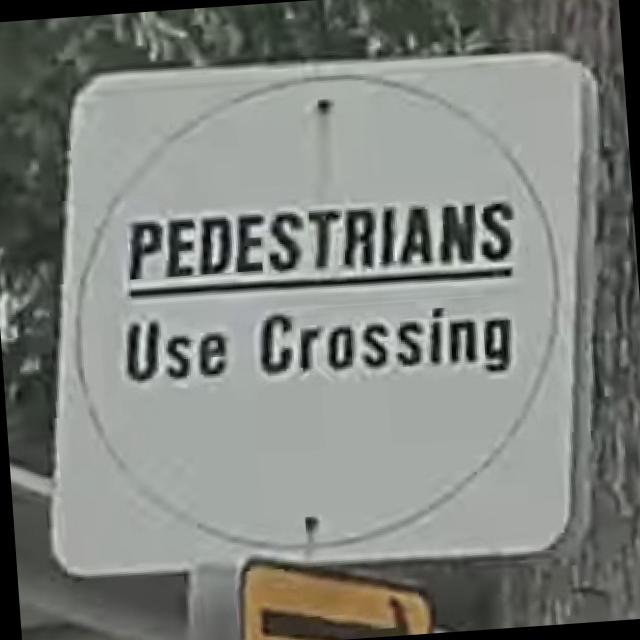pedestriancrossing_sign: (13, 32, 632, 593)
